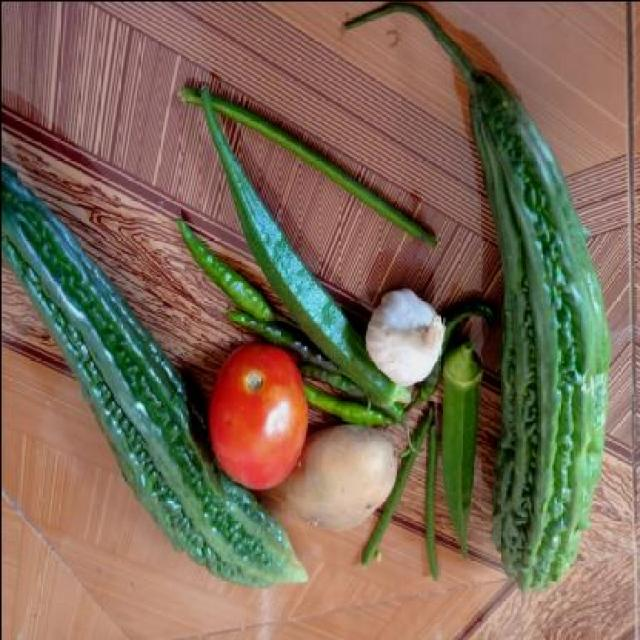Bitter melon: (491, 68, 611, 588)
Garlic: (365, 288, 443, 383)
Green Chili: (0, 152, 192, 539), (170, 209, 272, 320)
Lady finger: (440, 342, 482, 563)
Potato: (288, 417, 402, 532)
Tomato: (204, 338, 304, 492)
